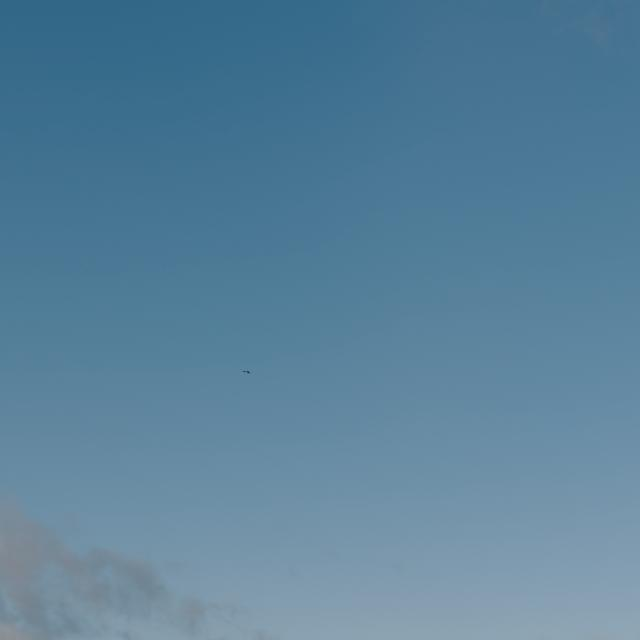Airaplan: (240, 370, 252, 374)
